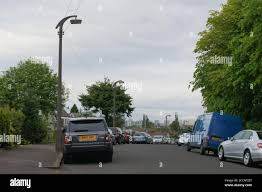light_pole: (52, 19, 66, 162)
